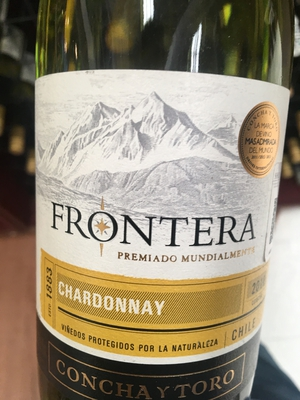frontera chardonnay: (35, 5, 290, 400)
